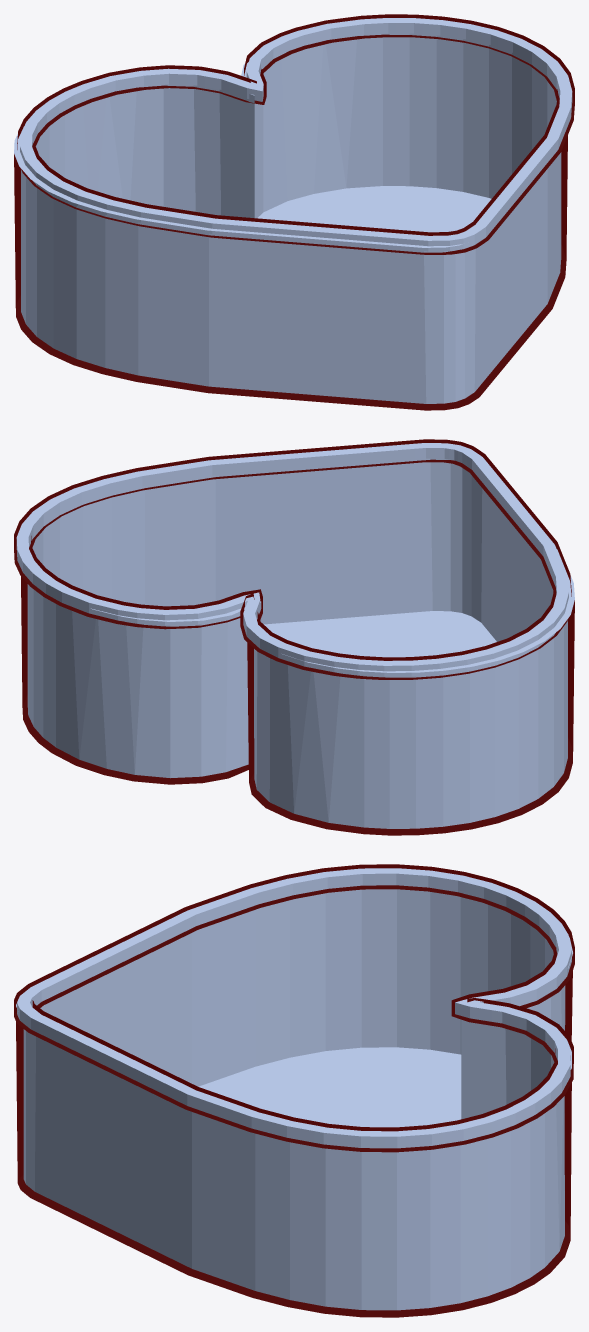
Rendered from forma coraçao.glb.
3 renders of one model, top to bottom at view 1: azimuth 30°, elevation 25°; view 2: azimuth 150°, elevation 25°; view 3: azimuth 270°, elevation 25°, orthographic. The views are drawn at different scales.
Parts seen in each view (by area): view 1: Circle.001, Circle.002; view 2: Circle.001, Circle.002; view 3: Circle.001, Circle.002.
Boxes of the visible parts, <box> form: Circle.001: <box>14,33,567,410</box>; Circle.002: <box>17,14,574,254</box>; Circle.001: <box>21,458,574,835</box>; Circle.002: <box>14,439,571,679</box>; Circle.001: <box>15,889,573,1317</box>; Circle.002: <box>14,864,574,1152</box>.
Size of the model in its own units: 25.07 by 8.03 by 21.77.
